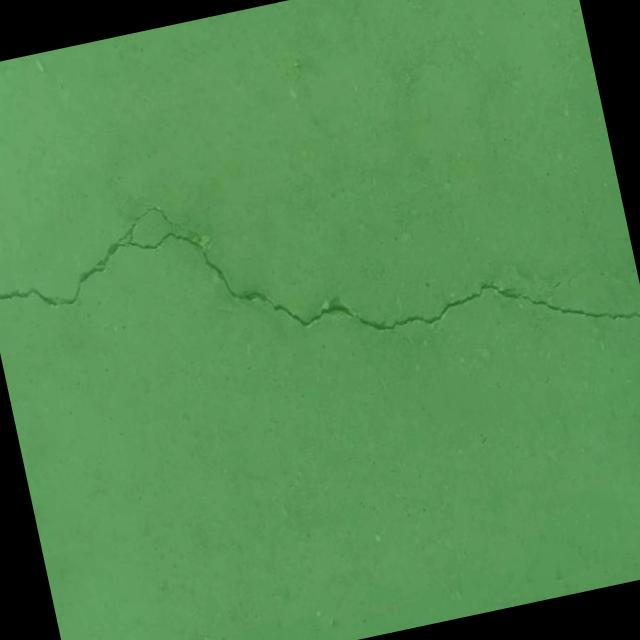crack: (0, 110, 640, 449)
